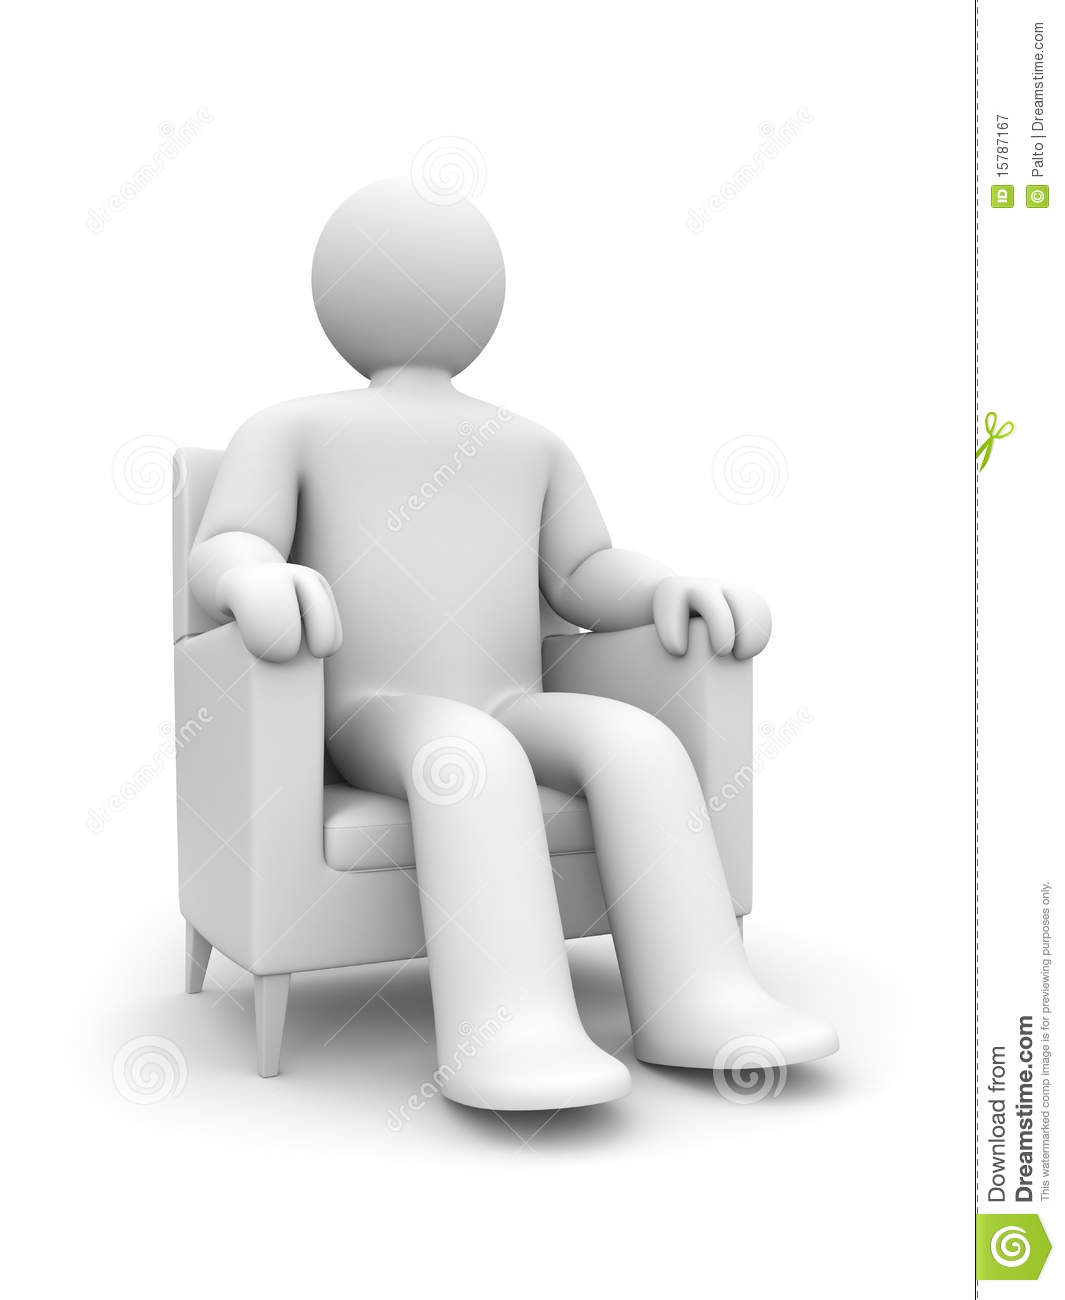chairs: (164, 435, 780, 1085)
